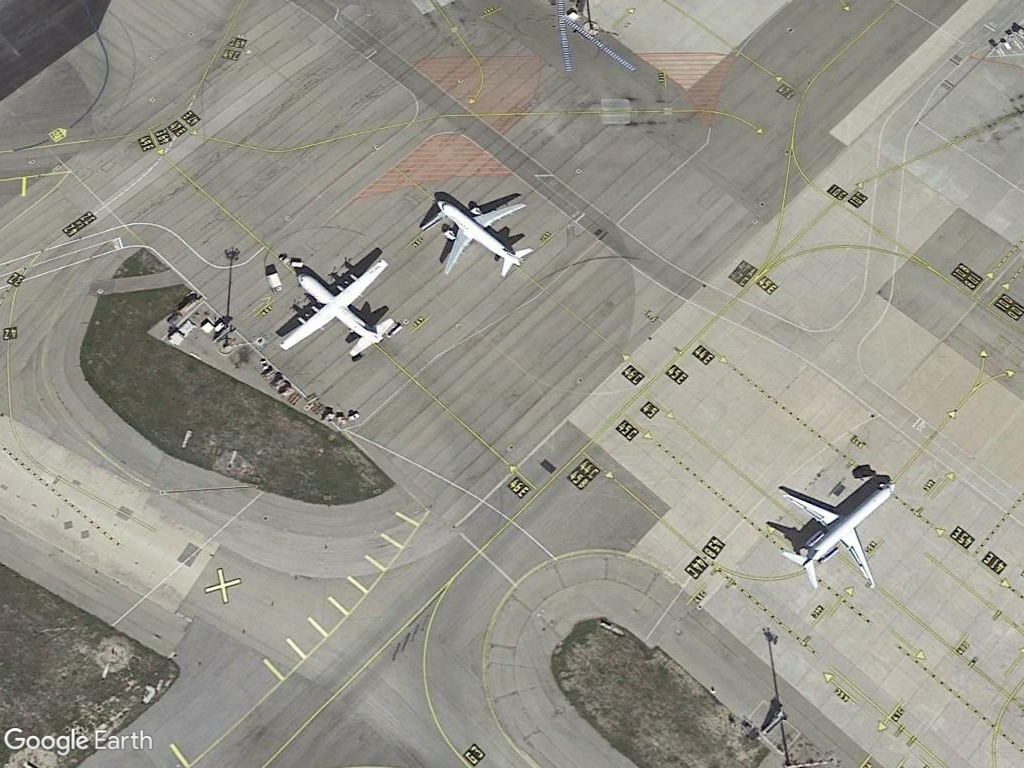airliner: (772, 475, 899, 598), (430, 193, 538, 280)
propeller: (271, 250, 398, 363)
